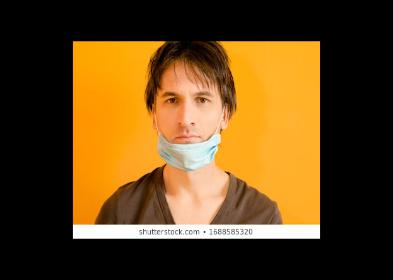mask_weared_incorrect: (156, 89, 223, 167)
